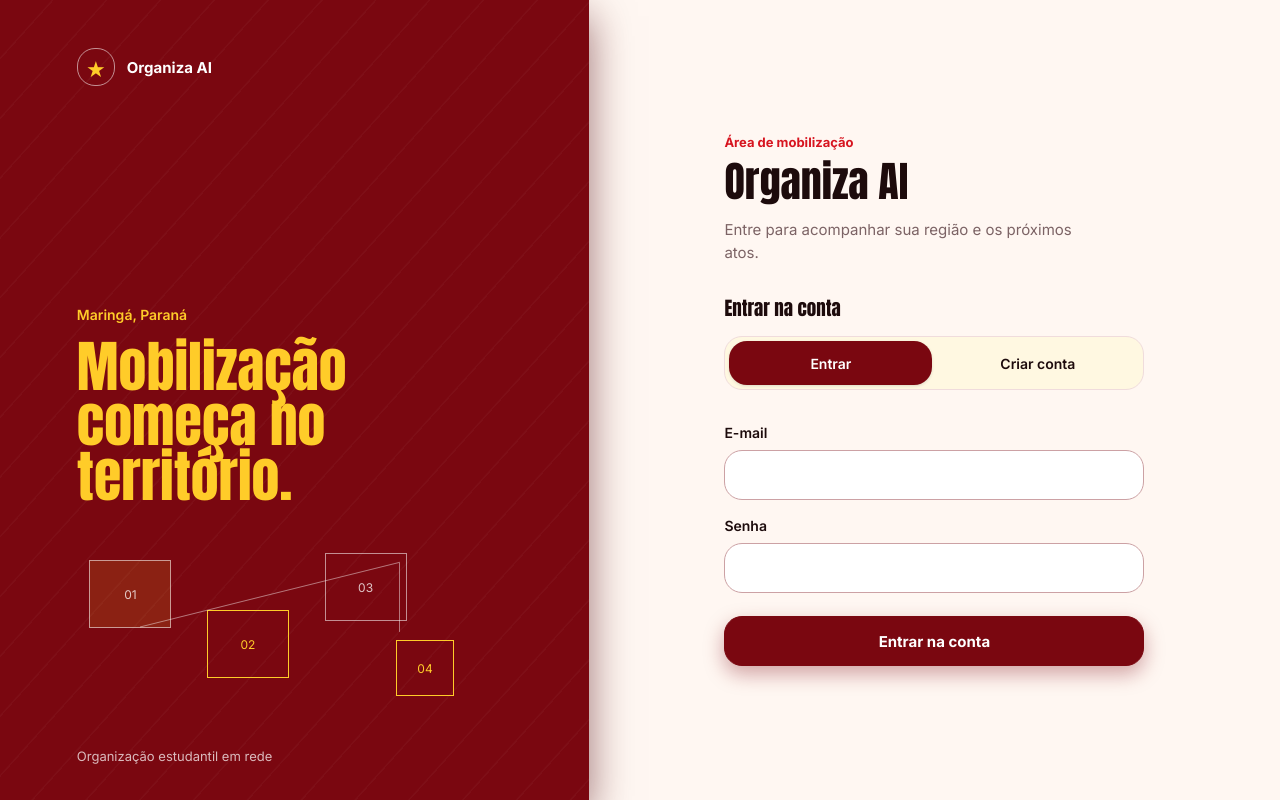
Scenario: AuthForm › shows a generic error returned by the Auth service
In the field labelled "E-mail": (934, 475) [724,450,1144,500], type "pessoa@example.test"
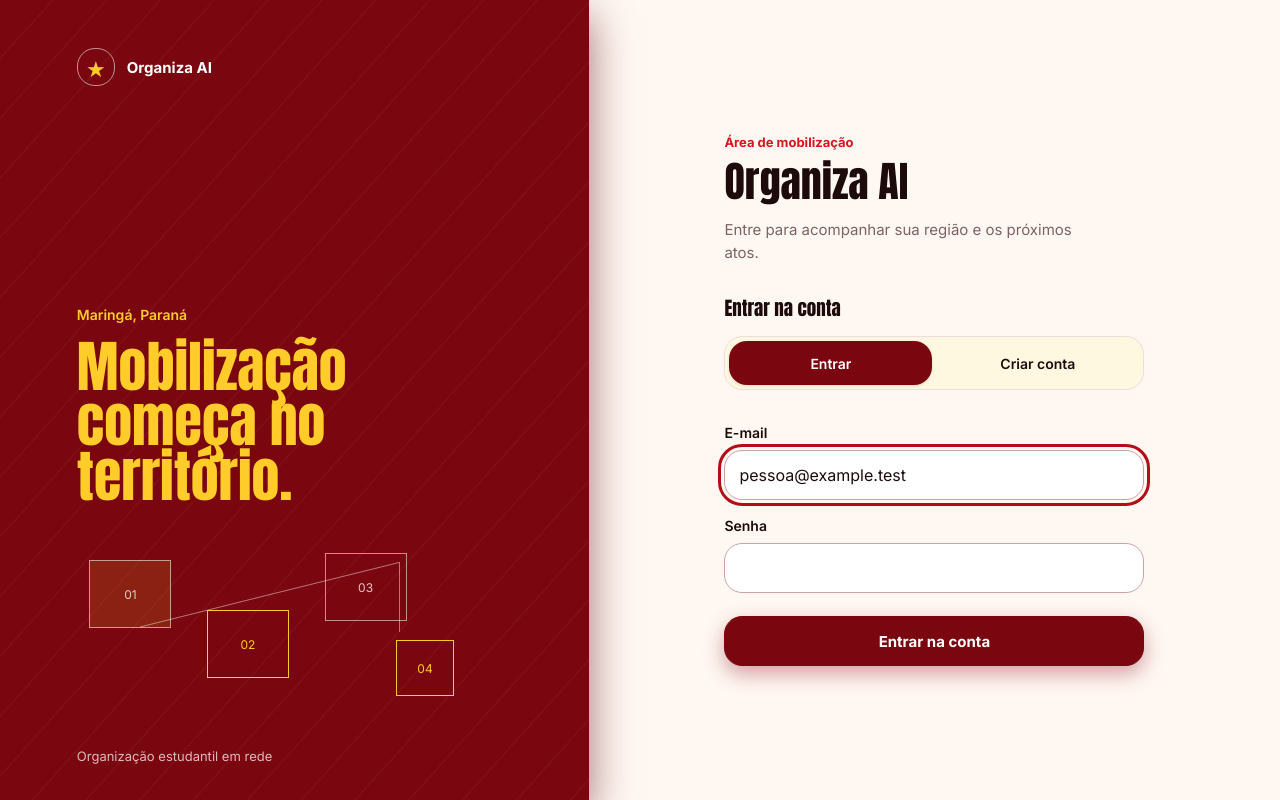
In the password field labelled "Senha": (934, 568) [724,543,1144,593], type "wrong-password"
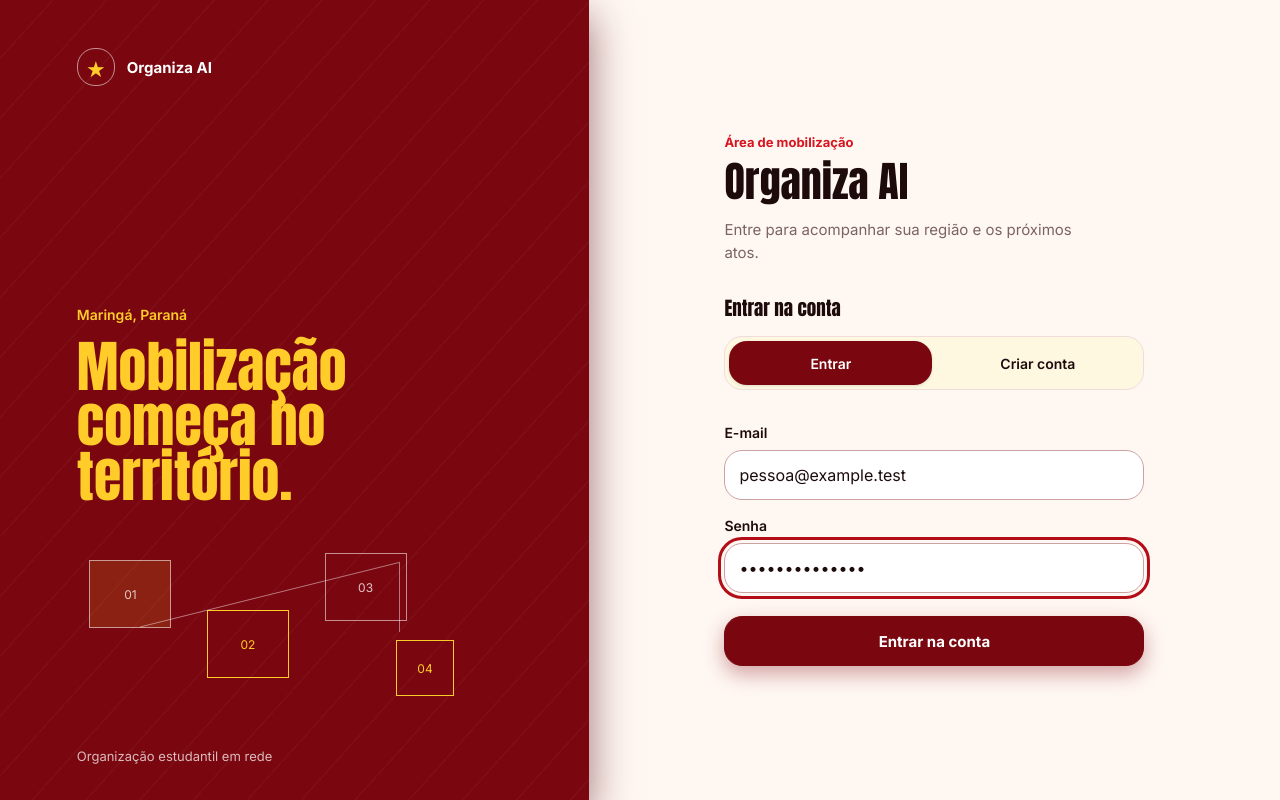
Click the button "Entrar na conta": (934, 641) [724,616,1144,666]
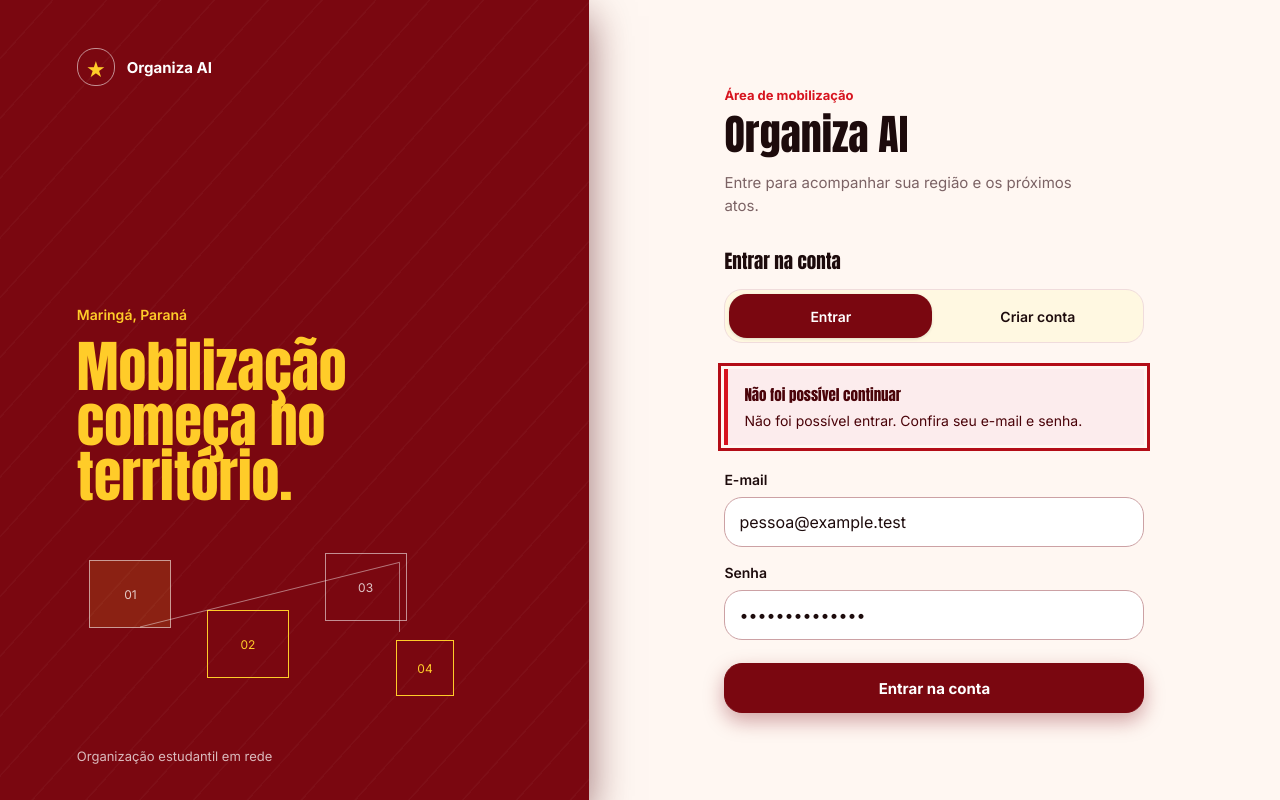
Expected: the message is shown, [724,369,1144,445]
